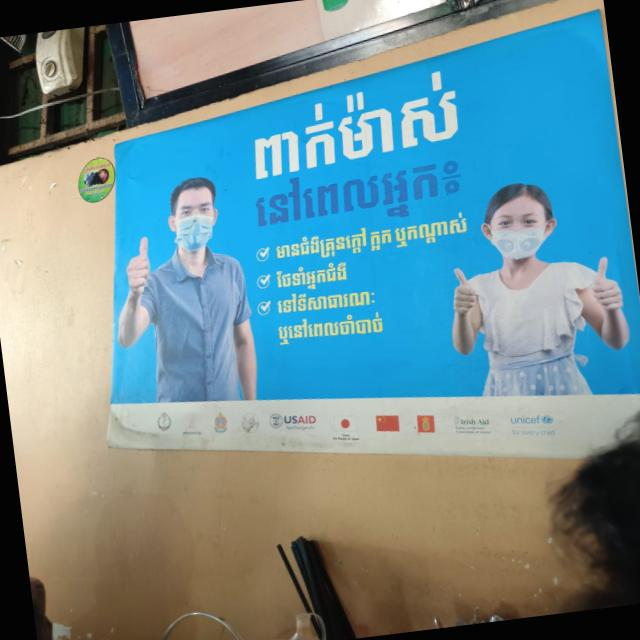2: (273, 209, 471, 264)
Yolov11_80vkh: (241, 60, 465, 182), (245, 146, 469, 236), (274, 308, 386, 348), (274, 285, 377, 315), (275, 258, 353, 293)
